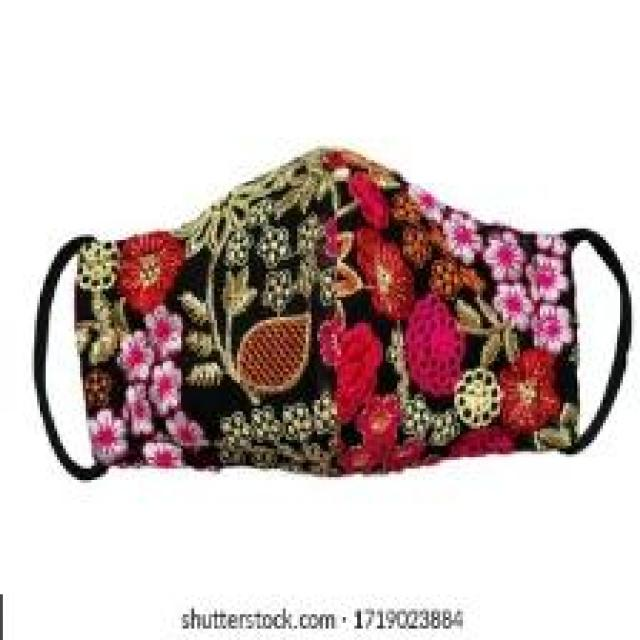Mask: (31, 140, 627, 533)
